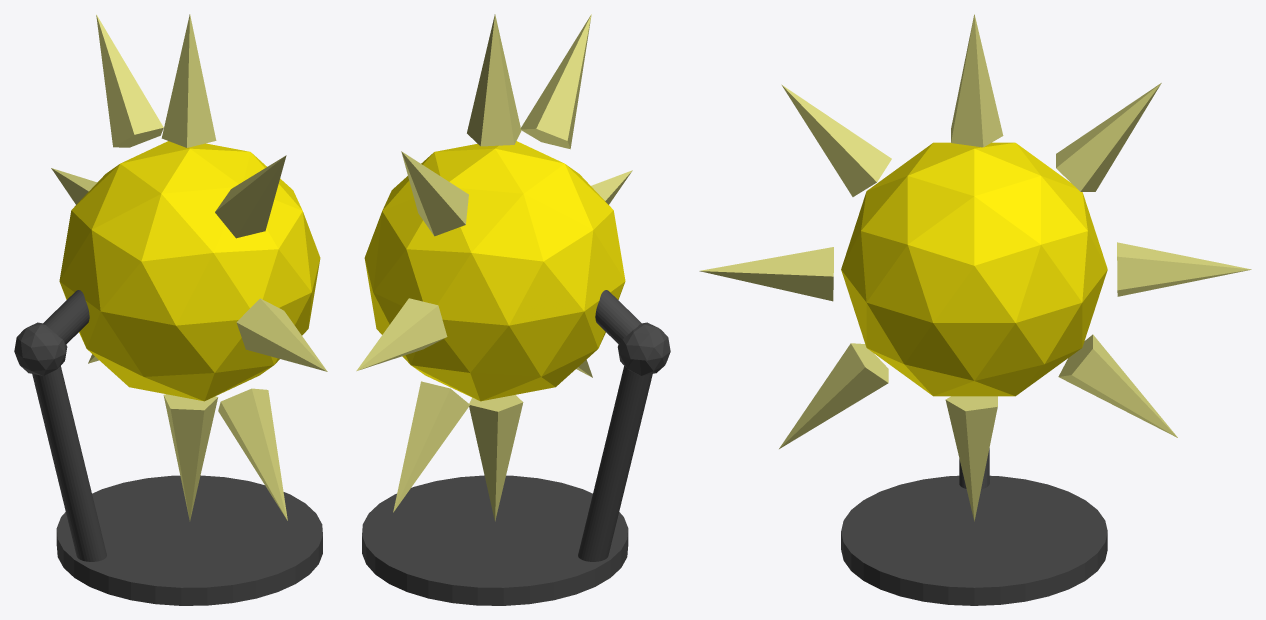
File: sun_element.fbx
The picture shows the model from 3 angles, left to right: view 1: azimuth 30°, elevation 25°; view 2: azimuth 150°, elevation 25°; view 3: azimuth 270°, elevation 25°; orthographic projection.
Parts seen in each view (by area): view 1: Sonne_Element, stand_element; view 2: Sonne_Element, stand_element; view 3: Sonne_Element, stand_element.
Boxes of the visible parts, x1,y1,x2,y2 form: Sonne_Element: (51,14,327,521); stand_element: (14,290,322,605); Sonne_Element: (356,14,632,521); stand_element: (362,290,670,605); Sonne_Element: (699,14,1251,521); stand_element: (841,448,1107,605).
Size of the model in its own units: 248 by 443 by 414.
